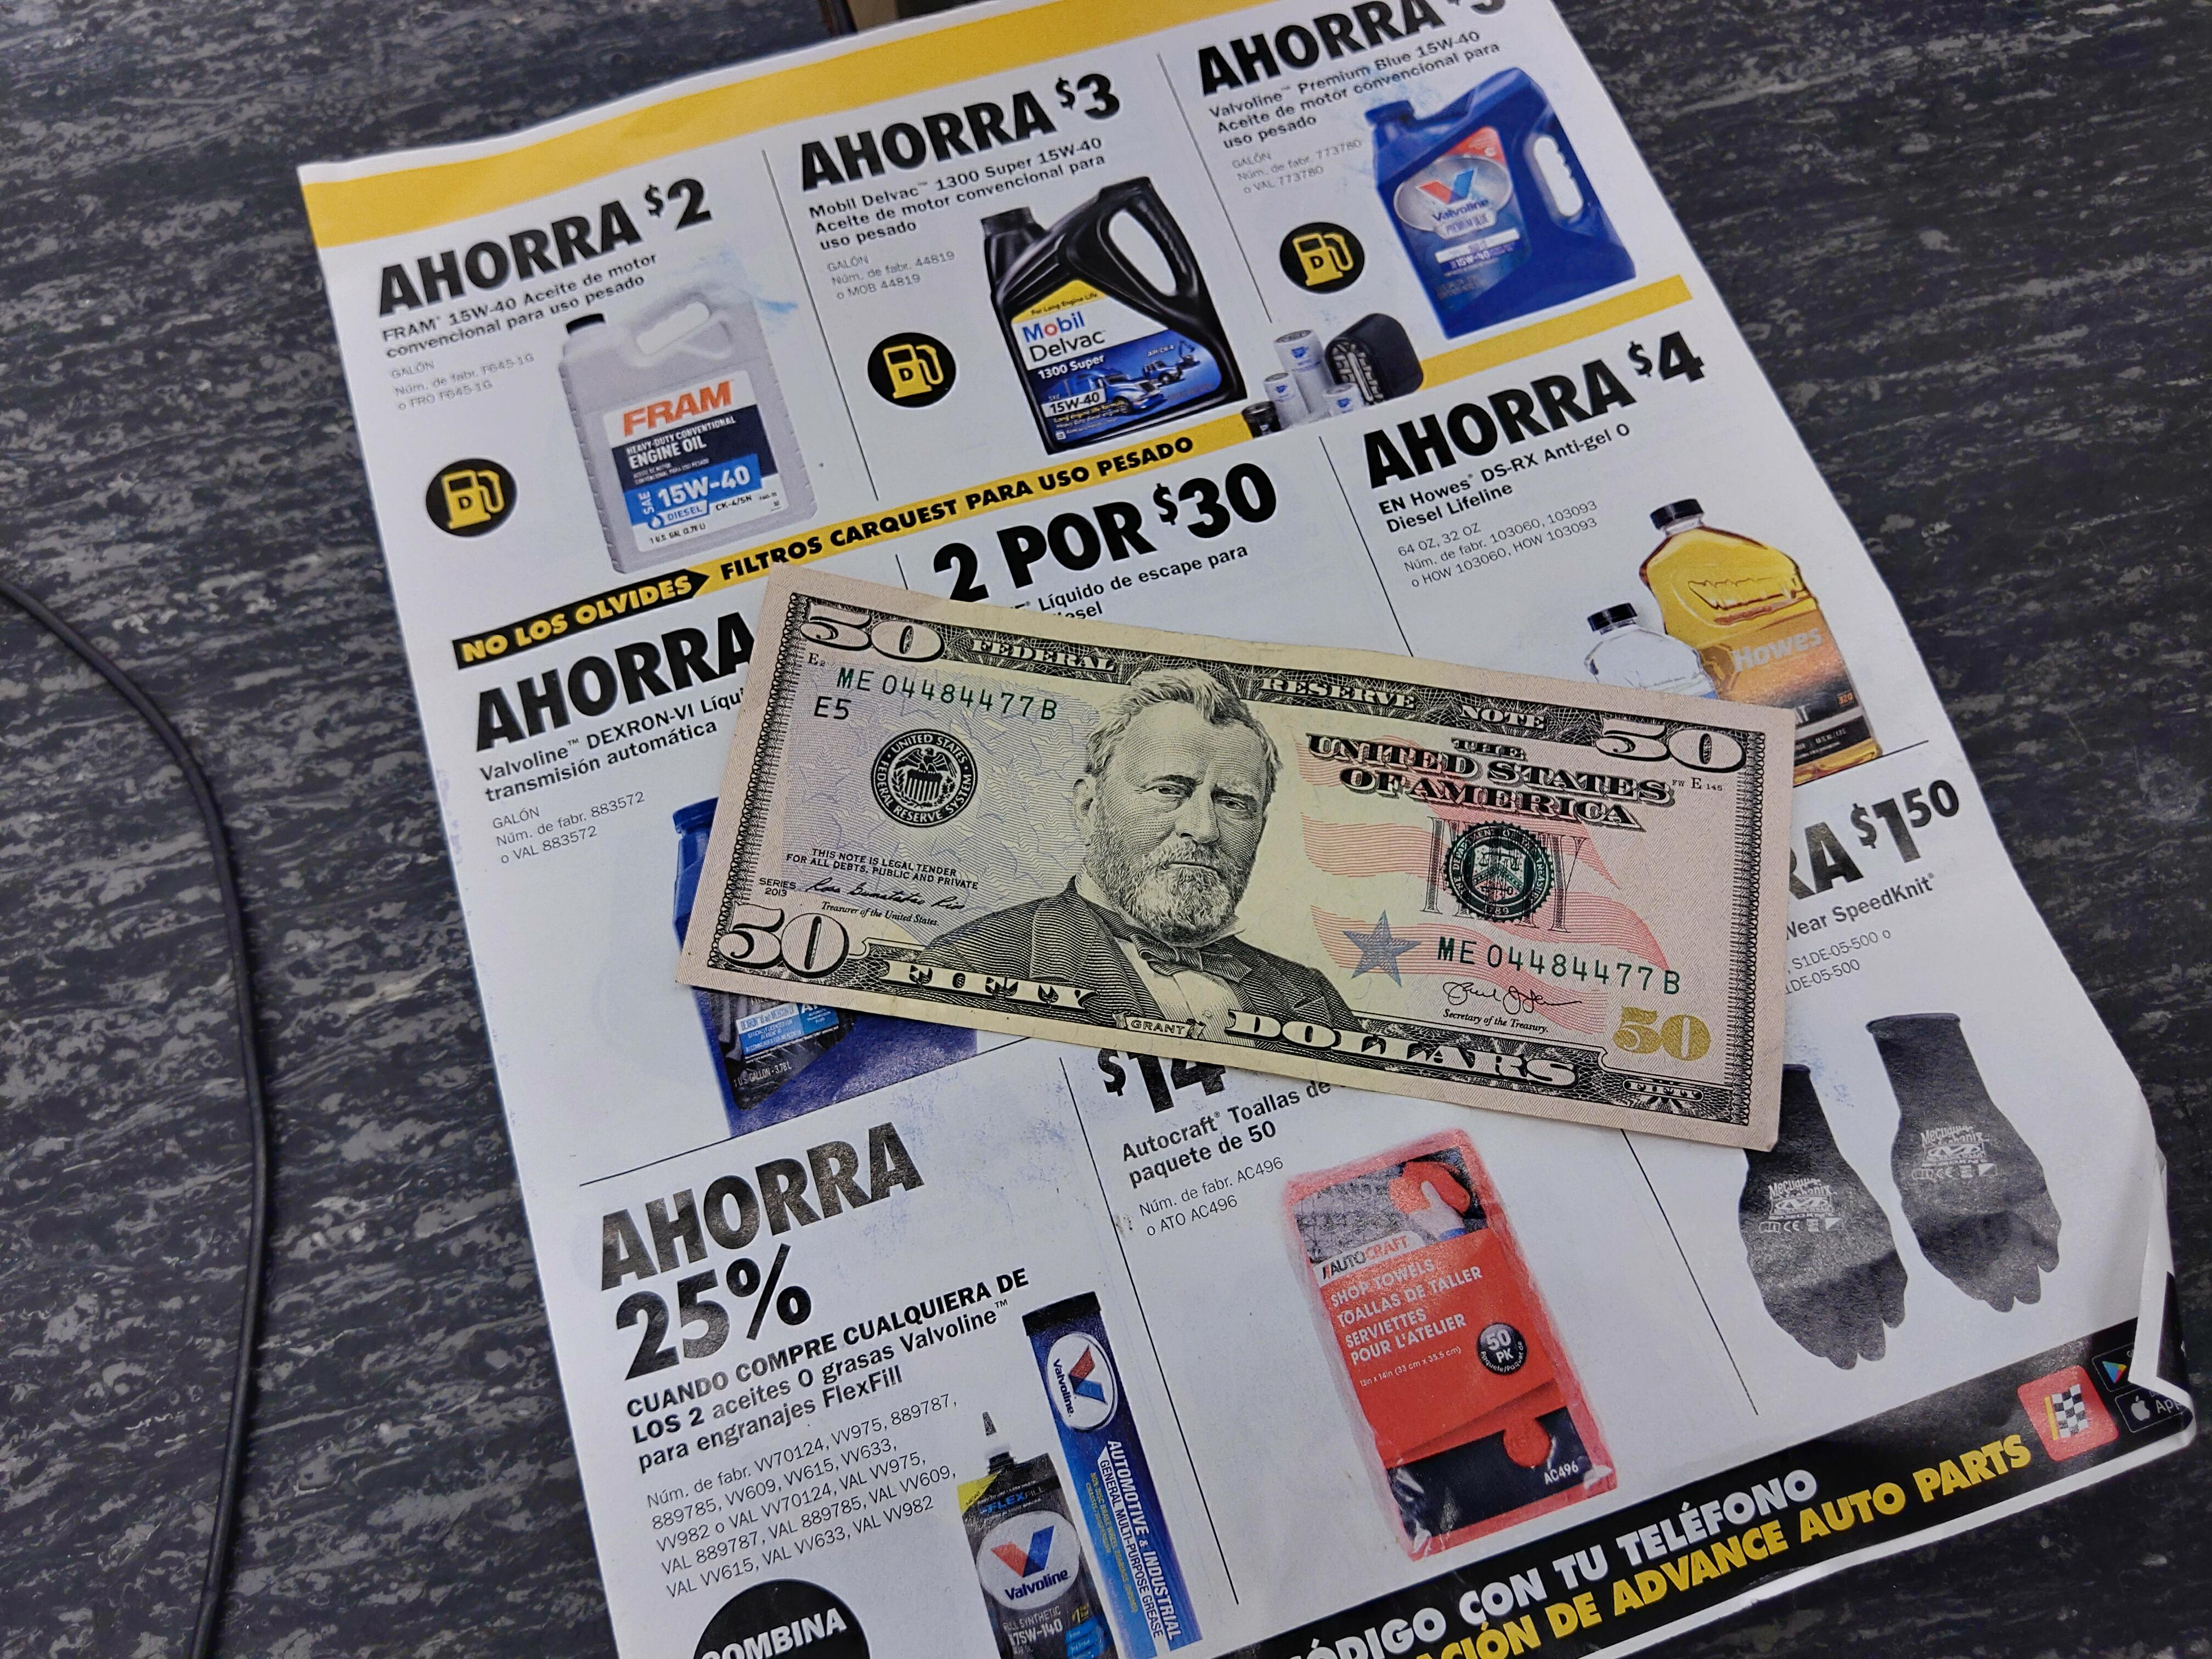FiftyBill: (674, 556, 1797, 1148)
